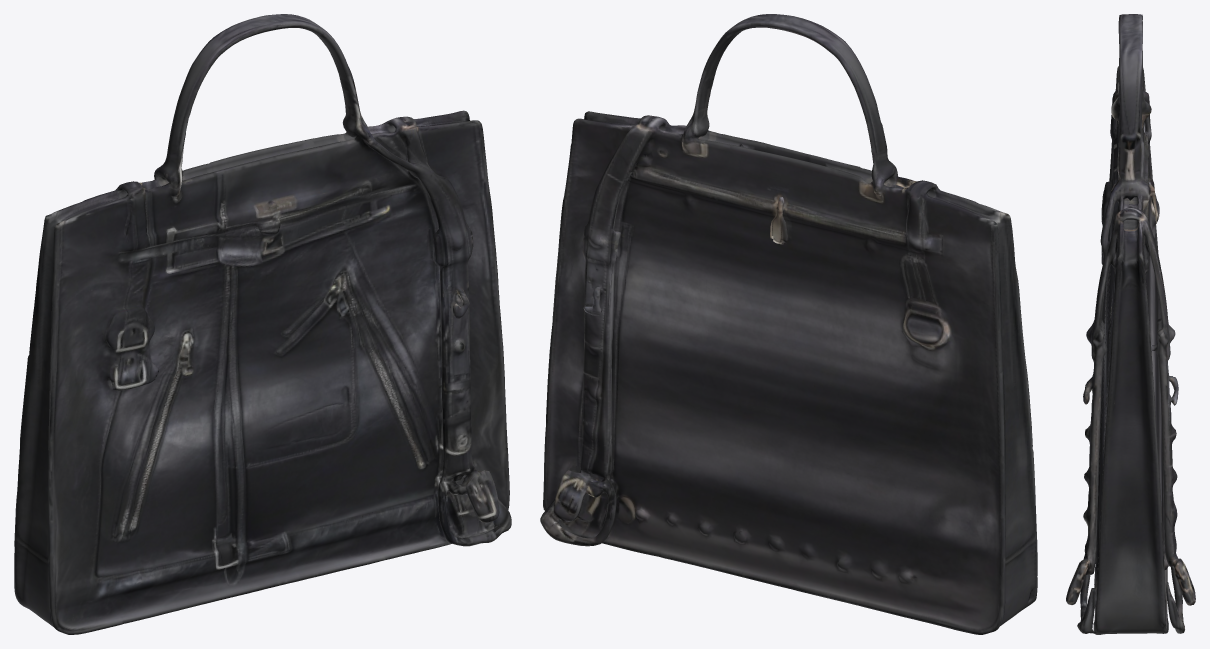
The model's file is Black_Leather_Zipper__0829180633.glb.
3 renders of one model, left to right at view 1: azimuth 30°, elevation 25°; view 2: azimuth 150°, elevation 25°; view 3: azimuth 270°, elevation 25°, orthographic. The views are drawn at different scales.
Size of the model in its own units: 1.75 by 2 by 0.4559.
Materials: 1 (1 with a texture image).
